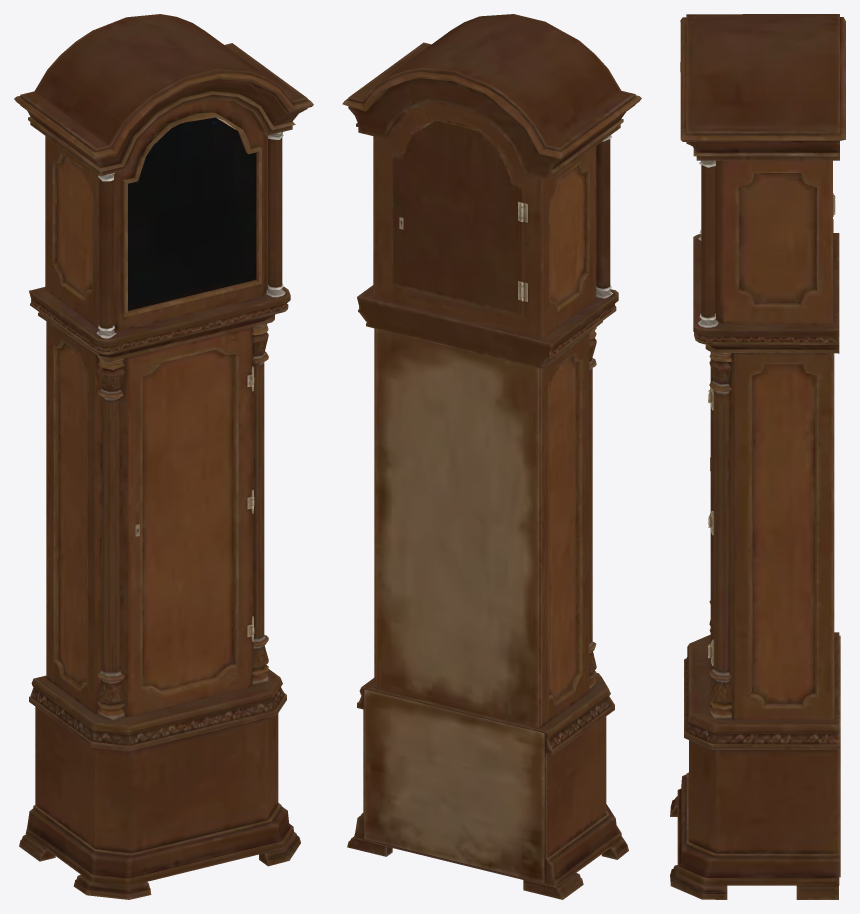
3 views of the same model, side by side, from view 1: azimuth 30°, elevation 25°; view 2: azimuth 150°, elevation 25°; view 3: azimuth 270°, elevation 25° (orthographic). The views are drawn at different scales.
Parts seen in each view (by area): view 1: vintage_grandfather_clock_01_body; view 2: vintage_grandfather_clock_01_body; view 3: vintage_grandfather_clock_01_body.
Boxes of the visible parts, <box> form: vintage_grandfather_clock_01_body: <box>14,14,313,899</box>; vintage_grandfather_clock_01_body: <box>342,14,641,899</box>; vintage_grandfather_clock_01_body: <box>670,14,845,899</box>.
Size of the model in its own units: 0.6255 by 2.19 by 0.4265.
Materials: 2 (2 with a texture image).
